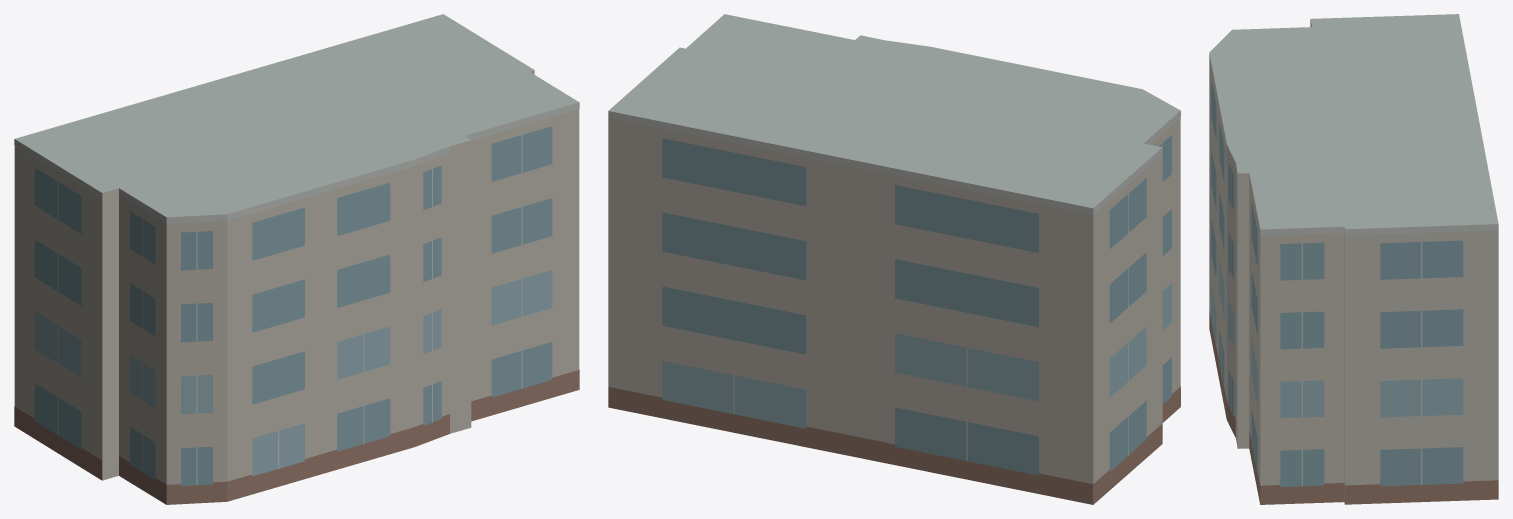
The model's file is survey-upis-32605345.glb.
3 renders of one model, left to right at view 1: azimuth 30°, elevation 25°; view 2: azimuth 150°, elevation 25°; view 3: azimuth 270°, elevation 25°, orthographic. The views are drawn at different scales.
Parts seen in each view (by area): view 1: survey-upis-32605345.tmp; view 2: survey-upis-32605345.tmp; view 3: survey-upis-32605345.tmp.
Boxes of the visible parts, bbox=[...] form: survey-upis-32605345.tmp: bbox=[14, 14, 579, 504]; survey-upis-32605345.tmp: bbox=[608, 14, 1180, 504]; survey-upis-32605345.tmp: bbox=[1209, 14, 1498, 504].
Bounding box in the file's own units: 17.8 × 10.6 × 10.11.
